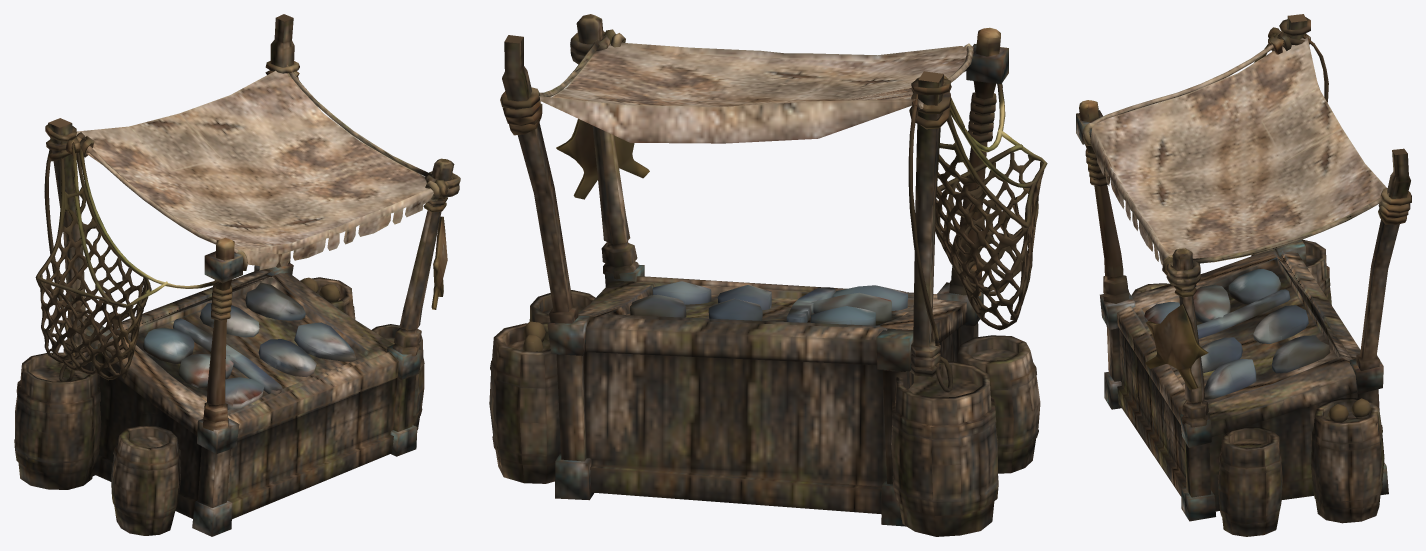
The model's file is fish.glb.
3 views of the same model, side by side, from view 1: azimuth 30°, elevation 25°; view 2: azimuth 150°, elevation 25°; view 3: azimuth 270°, elevation 25° (orthographic). The views are drawn at different scales.
Parts seen in each view (by area): view 1: market_stall_fish; view 2: market_stall_fish; view 3: market_stall_fish.
Boxes of the visible parts, x1,y1,x2,y2 form: market_stall_fish: (14,14,460,536); market_stall_fish: (489,14,1047,536); market_stall_fish: (1076,14,1411,536).
Bounding box in the file's own units: 3 × 2.65 × 2.25.
1 material, 1 textured.
